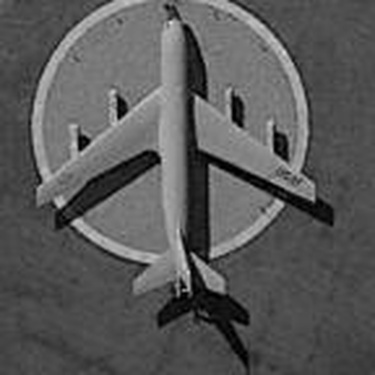airplane: (12, 1, 333, 325)
